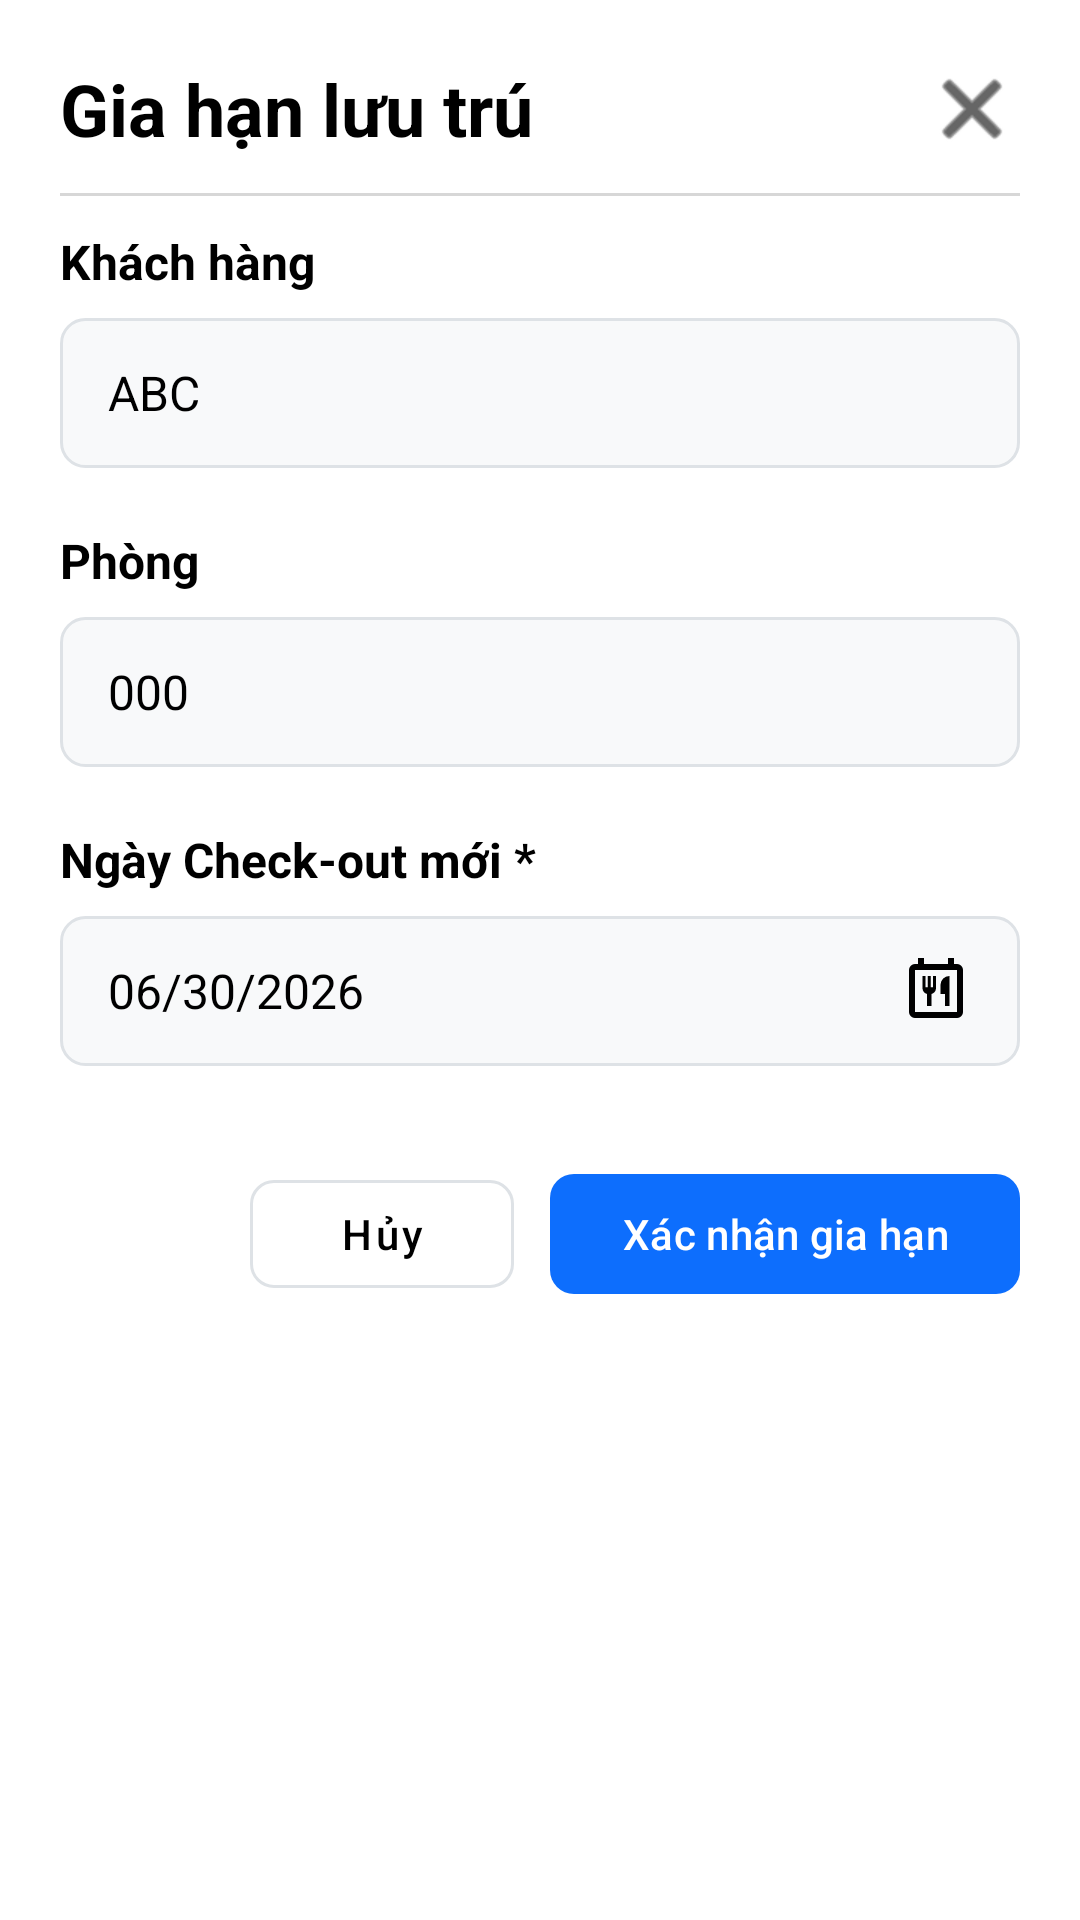

Point at icon controls on the screen. Image size 1080px x 1920px, points as (x=x, y=y).
close clear cancel: (x=972, y=109)
